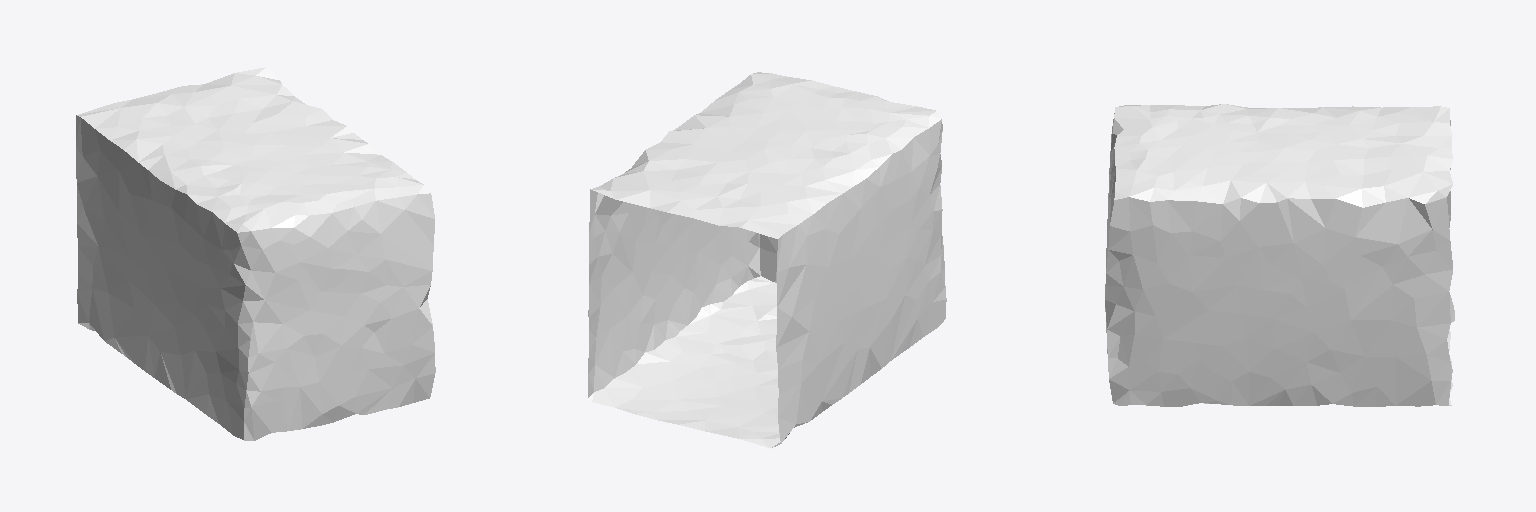
Rendered from pop_tarts_visual.obj.
3 views of the same model, side by side, from view 1: azimuth 30°, elevation 25°; view 2: azimuth 150°, elevation 25°; view 3: azimuth 270°, elevation 25° (orthographic).
Size of the model in its own units: 0.0925 by 0.0973 by 0.1406.